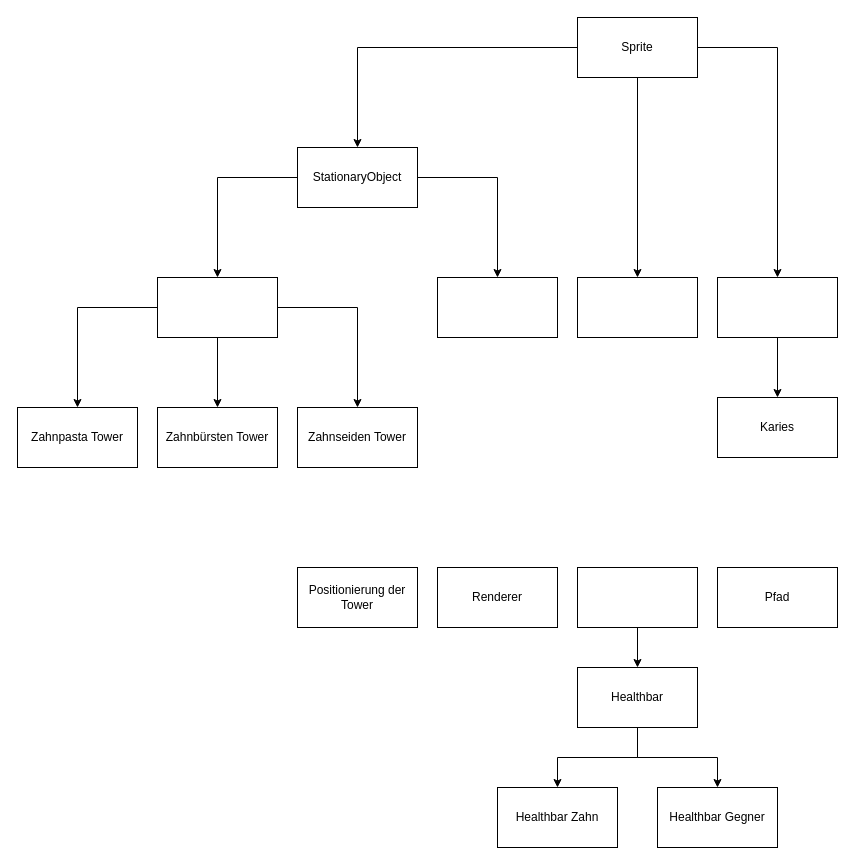
Some shapes in this 855 by 865 pixel diagram are drawn without their labels. The shapes that lost their labels are listed below. From the top down, each one's centre as x and y in pixels, then its label:
the point at 217,307: Tower
the point at 497,307: Zahn
the point at 637,307: Geschoss
the point at 777,307: Gegner
the point at 637,597: UI
